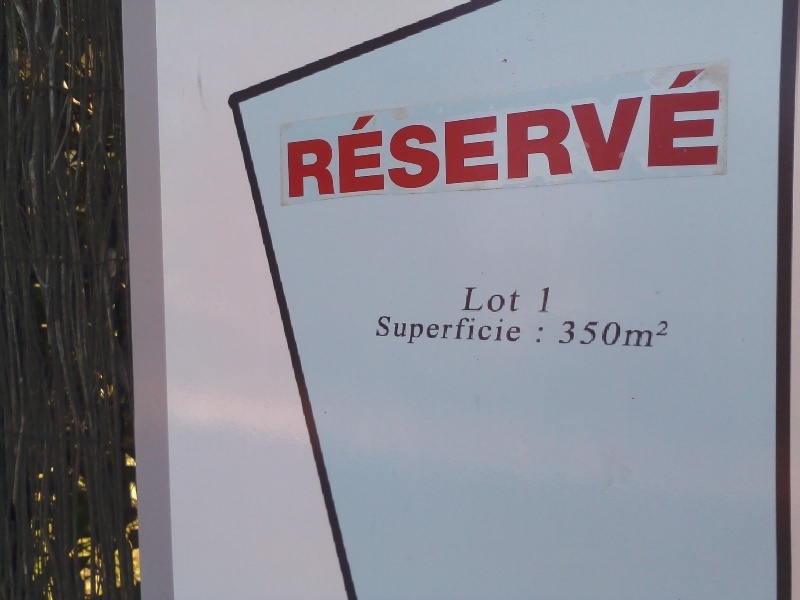text: (289, 63, 304, 201), (305, 63, 320, 201), (321, 63, 336, 201), (337, 63, 352, 201), (353, 63, 368, 201), (369, 63, 384, 201), (385, 63, 400, 201), (401, 63, 416, 201), (417, 63, 432, 201), (433, 63, 448, 201), (449, 63, 464, 201), (465, 63, 480, 201), (481, 63, 496, 201), (497, 63, 512, 201), (513, 63, 528, 201), (529, 63, 544, 201), (545, 63, 560, 201), (561, 63, 576, 201), (577, 63, 592, 201), (593, 63, 608, 201), (609, 63, 624, 201), (625, 63, 640, 201), (641, 63, 656, 201), (657, 63, 672, 201), (673, 63, 688, 201), (689, 63, 704, 201), (705, 63, 720, 201), (721, 63, 726, 201), (577, 318, 592, 354), (593, 318, 608, 354), (609, 318, 624, 354), (625, 318, 640, 354), (641, 318, 656, 354), (657, 318, 672, 354), (562, 318, 576, 354), (385, 314, 400, 347), (401, 314, 416, 347), (417, 314, 432, 347), (433, 314, 448, 347), (449, 314, 464, 347), (465, 314, 480, 347), (481, 314, 496, 347), (497, 314, 512, 347), (465, 285, 480, 315), (481, 285, 496, 315), (497, 285, 512, 315), (285, 63, 288, 201), (513, 314, 524, 347), (513, 285, 524, 315), (545, 284, 554, 314), (535, 321, 544, 348), (378, 314, 384, 347), (545, 321, 550, 348), (540, 284, 544, 314), (673, 318, 674, 354), (463, 285, 464, 315)
